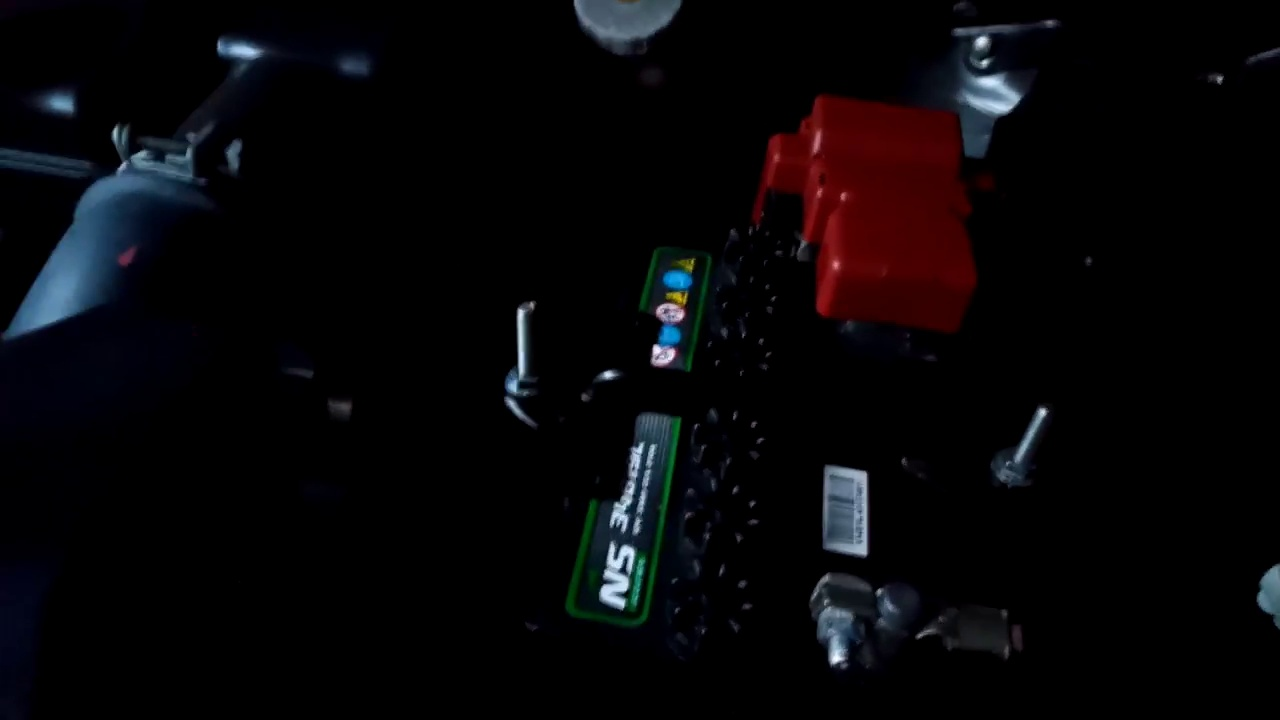battery: (563, 198, 1047, 675)
neg_connected: (784, 528, 1044, 680)
pos_connected: (740, 76, 982, 339)
